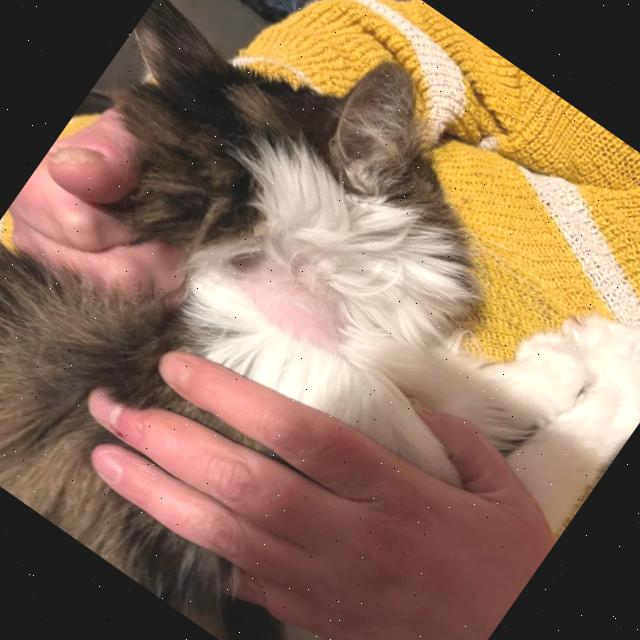cat-hairloss: (236, 254, 350, 353)
